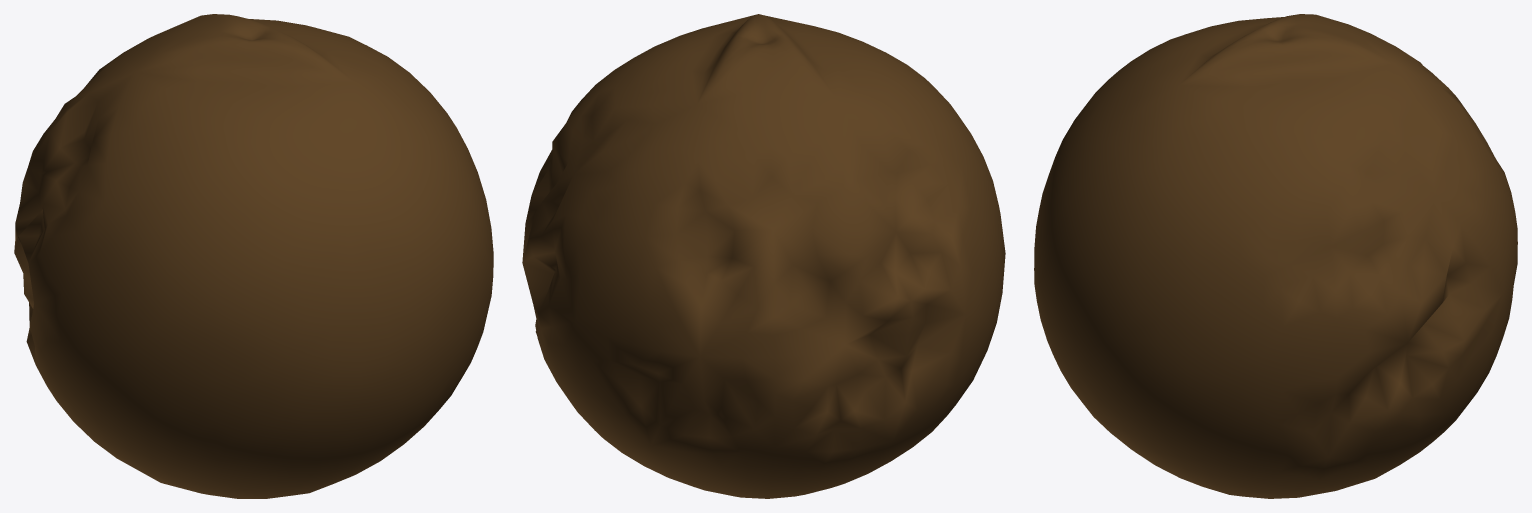
File: orange_rotten.fbx
3 views of the same model, side by side, from view 1: azimuth 30°, elevation 25°; view 2: azimuth 150°, elevation 25°; view 3: azimuth 270°, elevation 25° (orthographic).
Visible parts, largest first — view 1: polySurface27; view 2: polySurface27; view 3: polySurface27.
Part boxes in pixels (left/top/right/bottom): polySurface27: left=14, top=14, right=493, bottom=498; polySurface27: left=522, top=14, right=1005, bottom=498; polySurface27: left=1034, top=14, right=1517, bottom=498.
Bounding box in the file's own units: 1.2 × 1.21 × 1.19.
